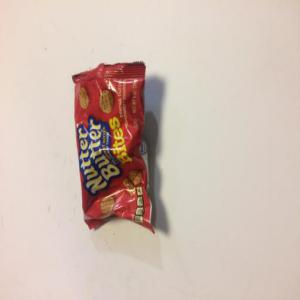Trash: (71, 60, 156, 234)
